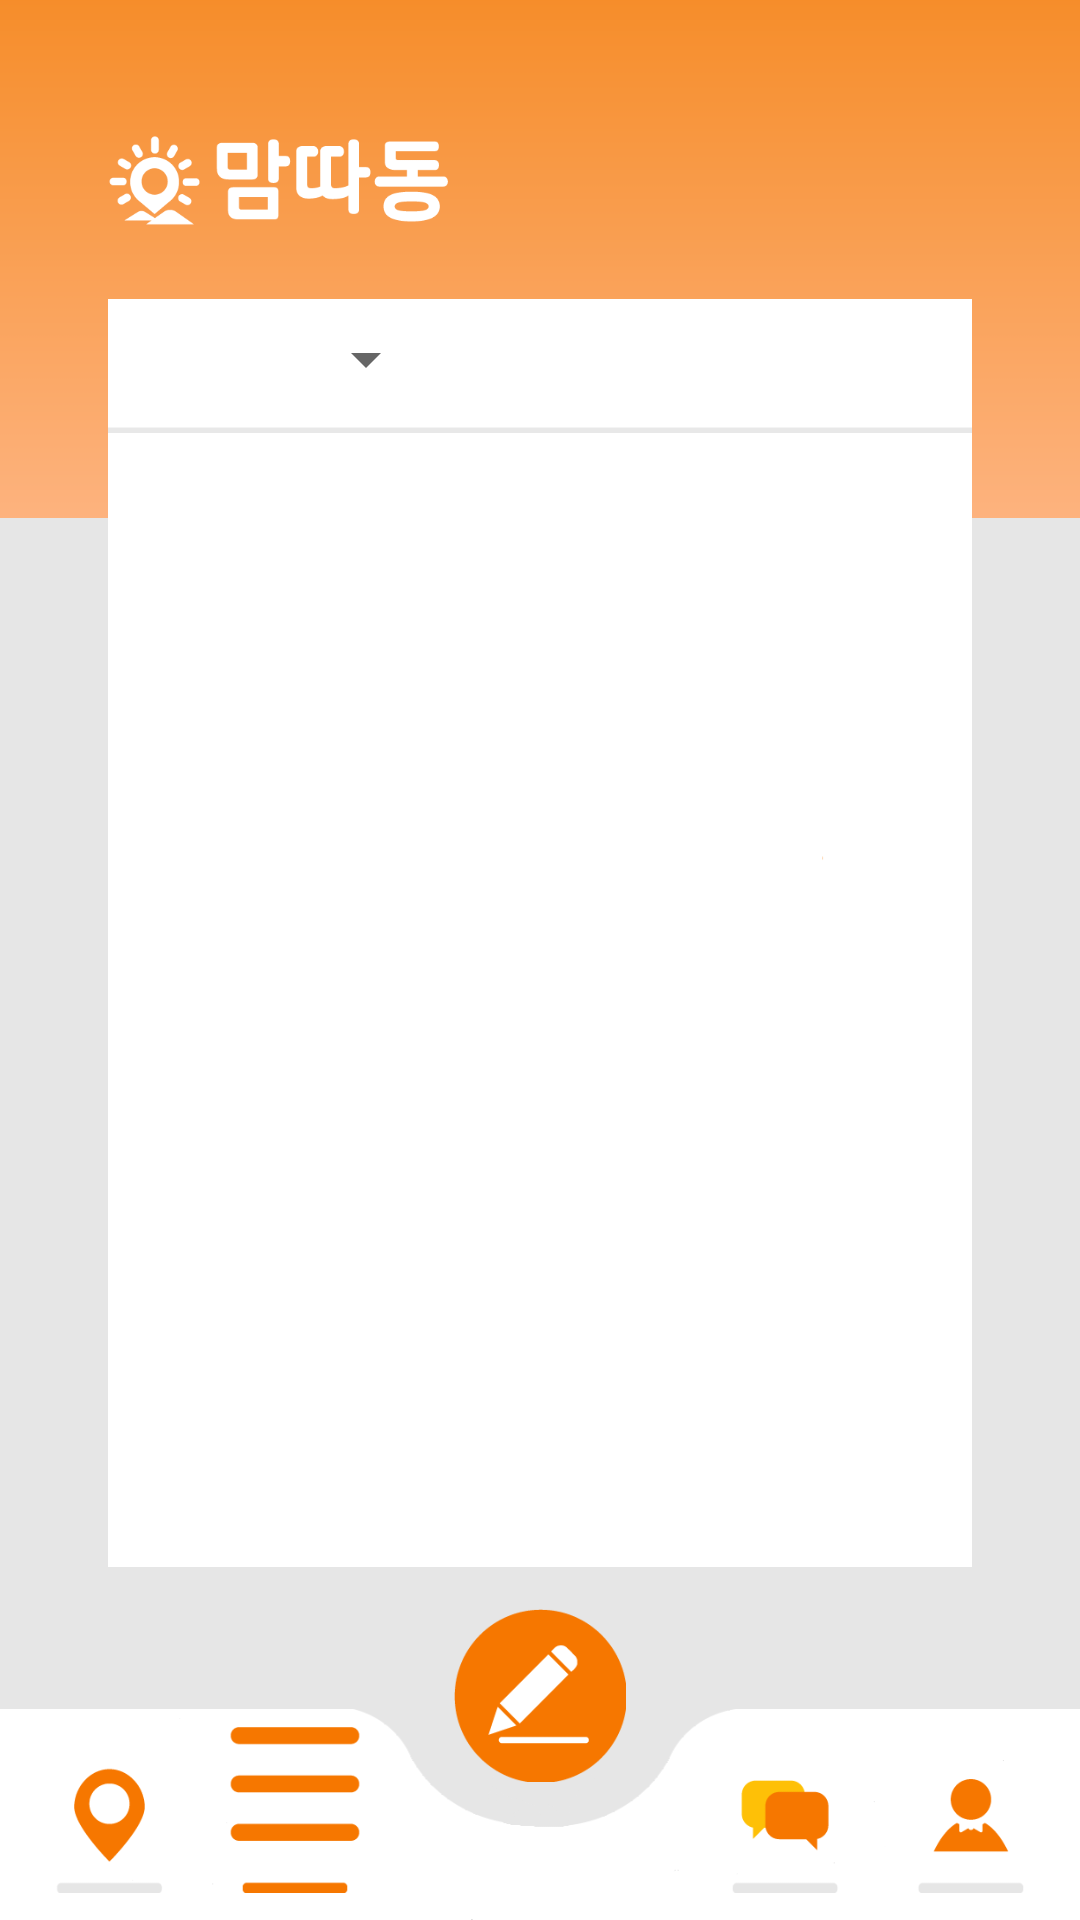

Named icons in this screenshot (1080 x 1920) and their bounding boxes, detection(x1, y1, x2, y2):
category: detection(230, 1727, 360, 1893)
chat: detection(733, 1780, 837, 1893)
map: detection(58, 1768, 161, 1893)
profile: detection(919, 1779, 1023, 1893)
write: detection(454, 1609, 626, 1782)
